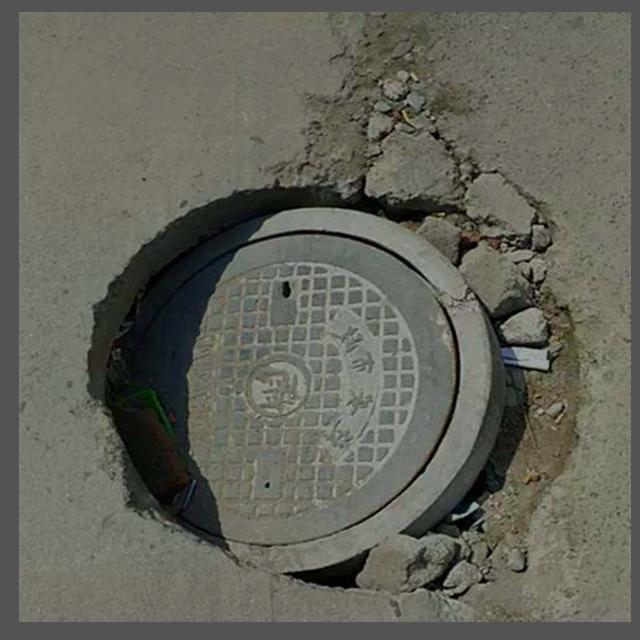circle: (89, 60, 572, 584)
